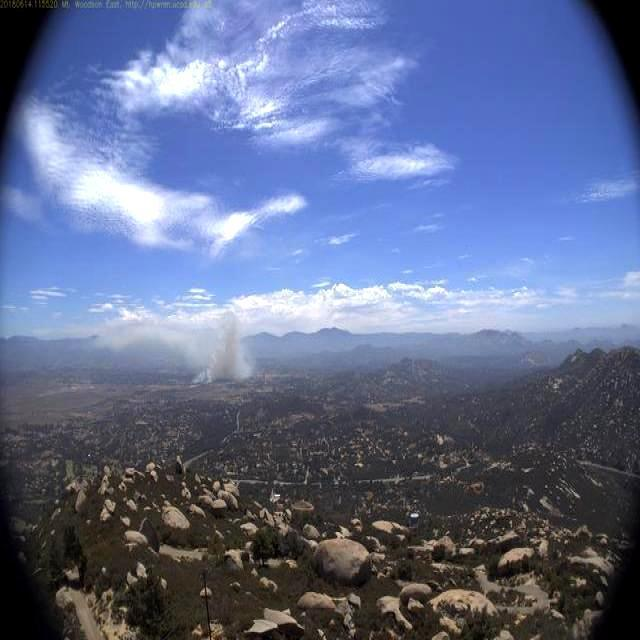Smoke: (92, 302, 257, 386)
